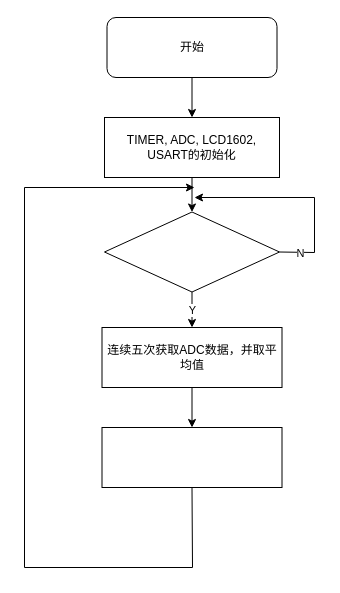
Image size: 340x593. Some labels were removed from this diagram. Each missing label, with the centre of its shape:
temp_c_flag==1?: the point at 192,251
计算对应的电阻值、查表获得当前环境温度: the point at 191,457
